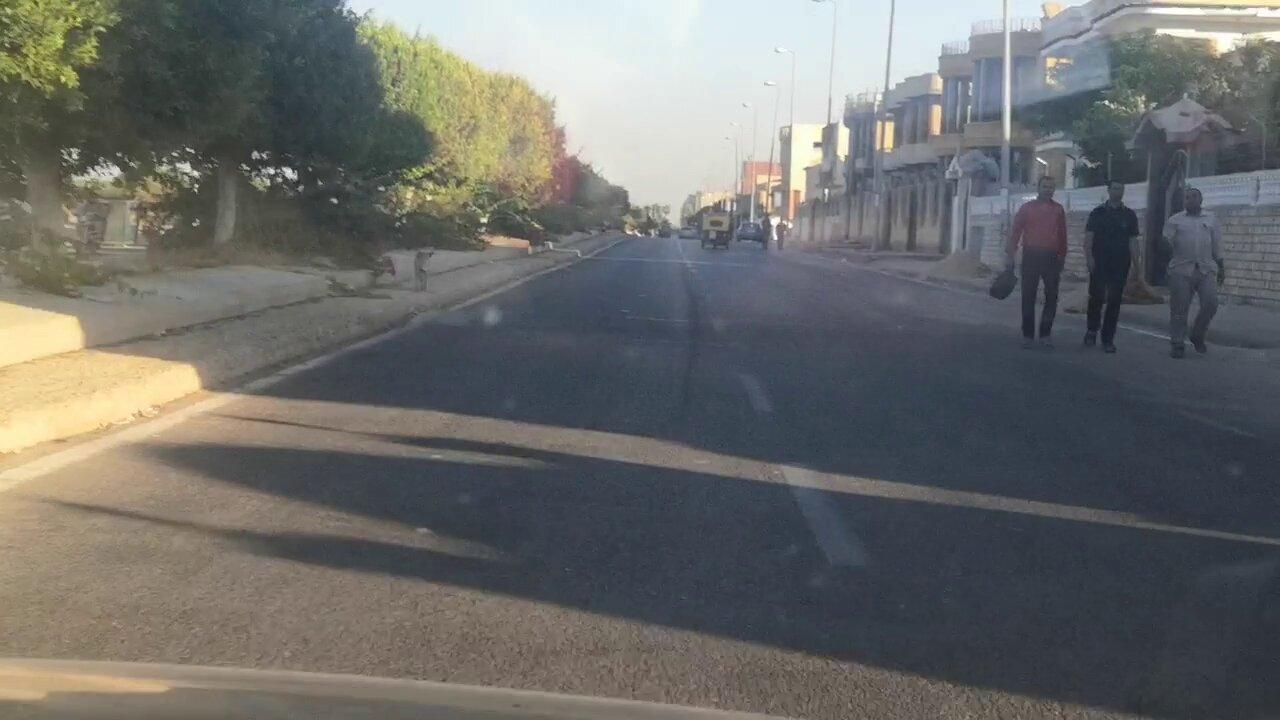Bump: (430, 310, 1010, 350)
